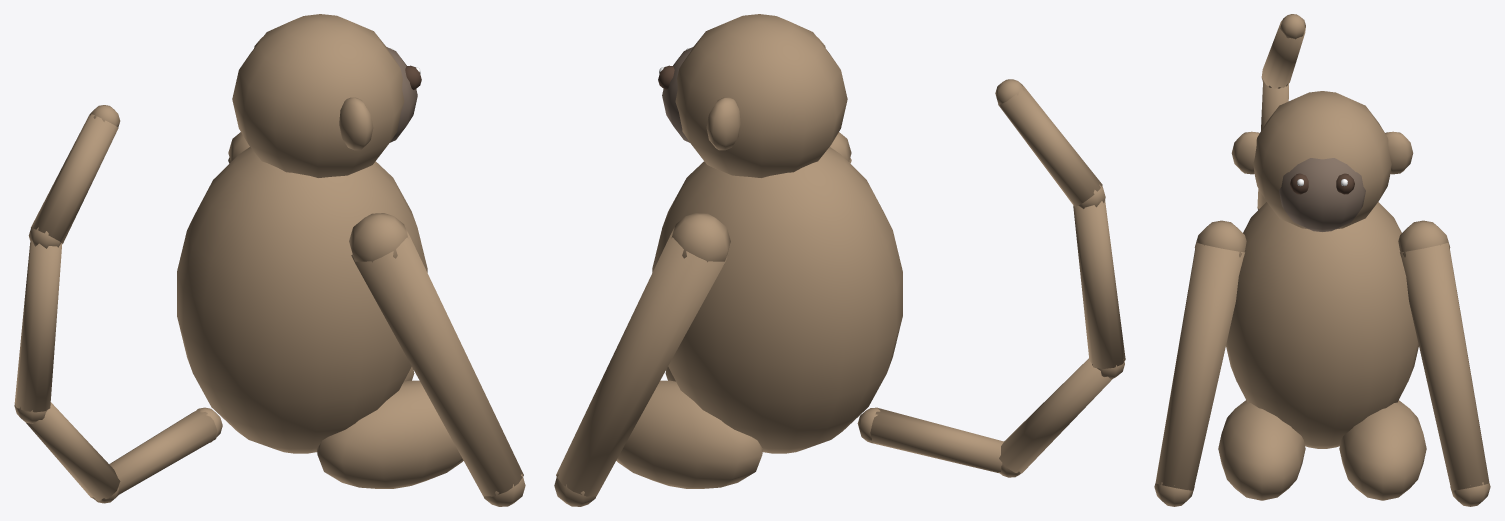
Rendered from brown-spider-monkey.glb.
3 renders of one model, left to right at view 1: azimuth 30°, elevation 25°; view 2: azimuth 150°, elevation 25°; view 3: azimuth 270°, elevation 25°, orthographic. The views are drawn at different scales.
Visible parts, largest first — view 1: e.008, e, e.015; view 2: e.008, e, e.015; view 3: e.008, e, e.015.
Boxes of the visible parts, bbox=[...] form: e.008: bbox=[177, 132, 525, 506]; e: bbox=[232, 14, 421, 177]; e.015: bbox=[14, 105, 222, 503]; e.008: bbox=[554, 132, 902, 506]; e: bbox=[658, 14, 847, 177]; e.015: bbox=[857, 79, 1125, 477]; e.008: bbox=[1154, 202, 1490, 506]; e: bbox=[1231, 91, 1413, 231]; e.015: bbox=[1257, 14, 1305, 209].
Bounding box in the file's own units: 1.33 × 1.22 × 1.
